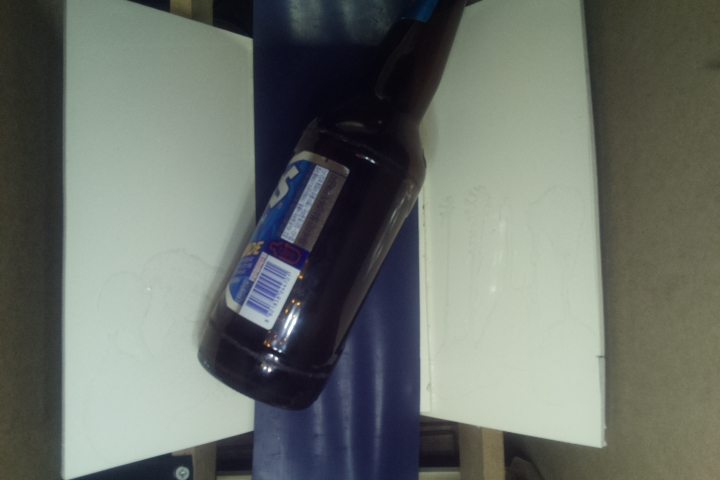makju: (198, 1, 481, 413)
